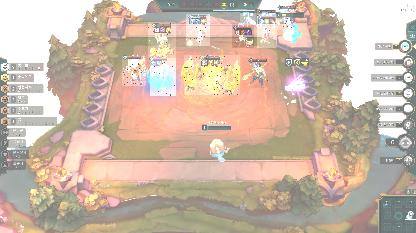1_soraka: (240, 12, 256, 26)
2_jax: (150, 58, 176, 96)
2_joy: (186, 14, 210, 46)
2_nasus: (242, 58, 268, 88)
2_soraka: (277, 6, 293, 30)
2_twitch: (232, 24, 254, 48)
2_volibear: (122, 56, 146, 86)
2_xayah: (257, 14, 277, 48)
3_idas: (184, 55, 240, 95)
3_jayce: (148, 22, 176, 58)
